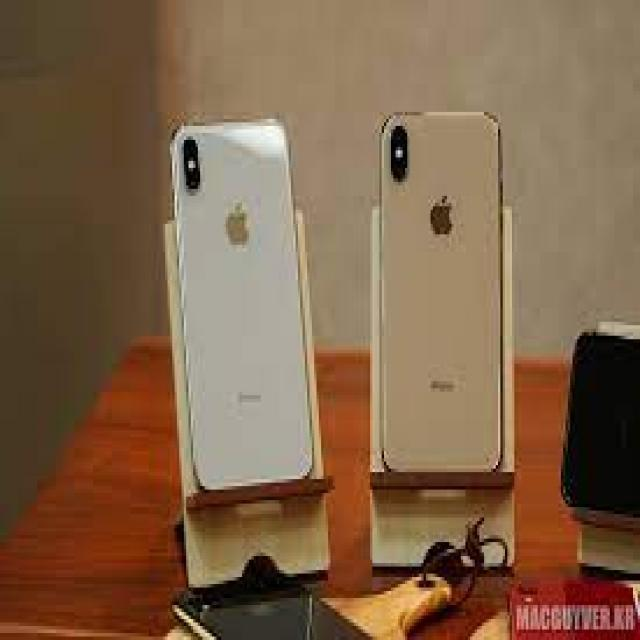Phone: (168, 112, 316, 491), (377, 112, 507, 480)
